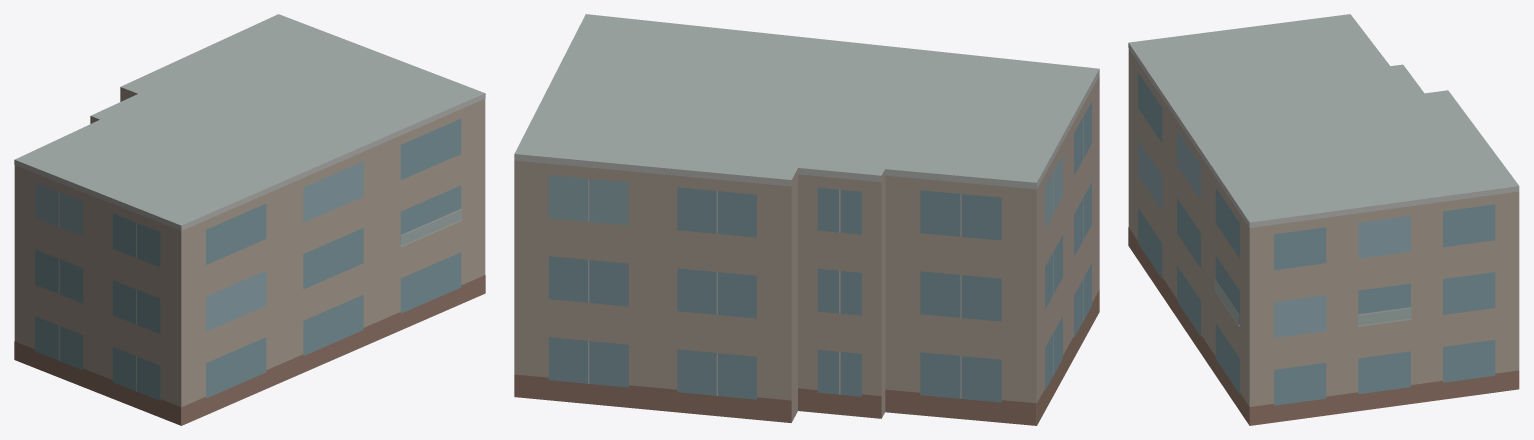
File: survey-upis-32772887.glb
The picture shows the model from 3 angles, left to right: view 1: azimuth 30°, elevation 25°; view 2: azimuth 150°, elevation 25°; view 3: azimuth 270°, elevation 25°; orthographic projection. The views are drawn at different scales.
Visible parts, largest first — view 1: survey-upis-32772887.tmp; view 2: survey-upis-32772887.tmp; view 3: survey-upis-32772887.tmp.
Part boxes in pixels (bbox=[...]): survey-upis-32772887.tmp: bbox=[14, 14, 485, 425]; survey-upis-32772887.tmp: bbox=[514, 14, 1099, 425]; survey-upis-32772887.tmp: bbox=[1128, 14, 1519, 425].
Size of the model in its own units: 20.15 by 9.15 by 15.96.
